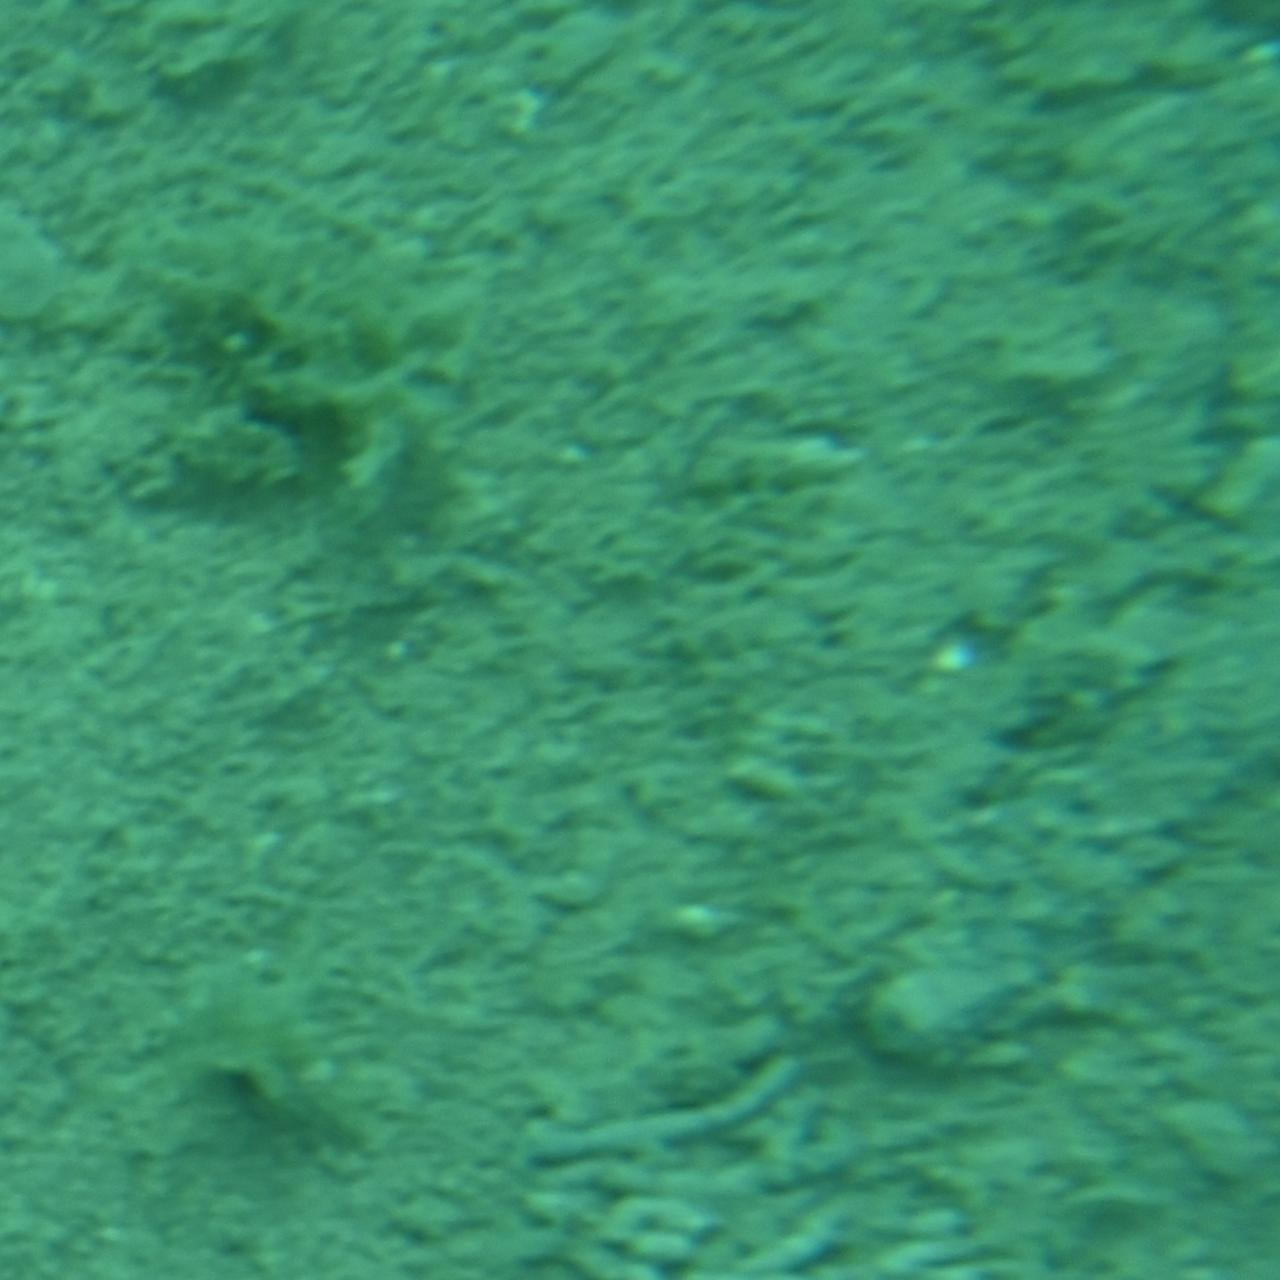Holothuria tubulosa: (845, 204, 1279, 1076)
